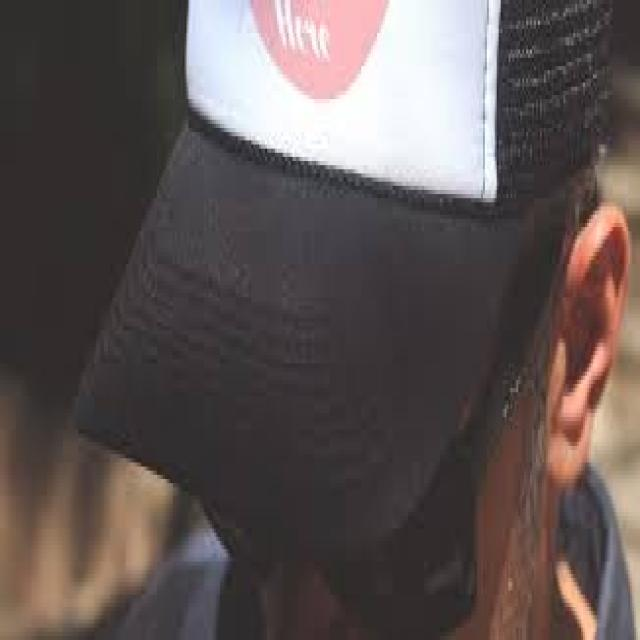cap: (71, 0, 630, 640)
